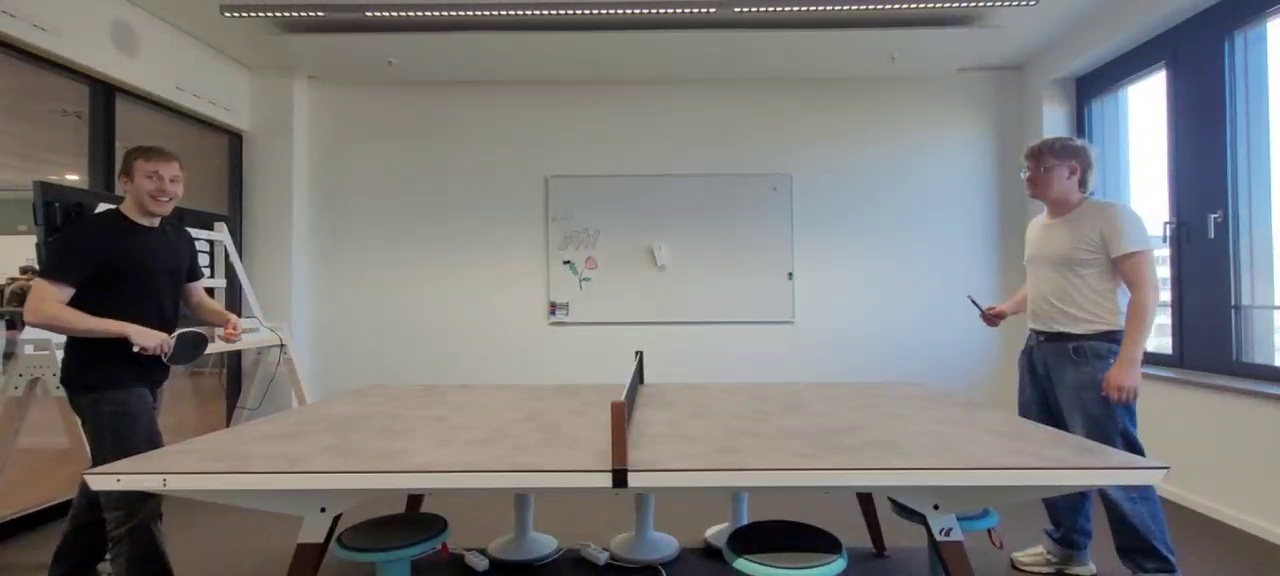plate: (81, 381, 1169, 472)
racket: (161, 328, 208, 366), (966, 294, 993, 322)
ttball: (224, 330, 234, 338)
